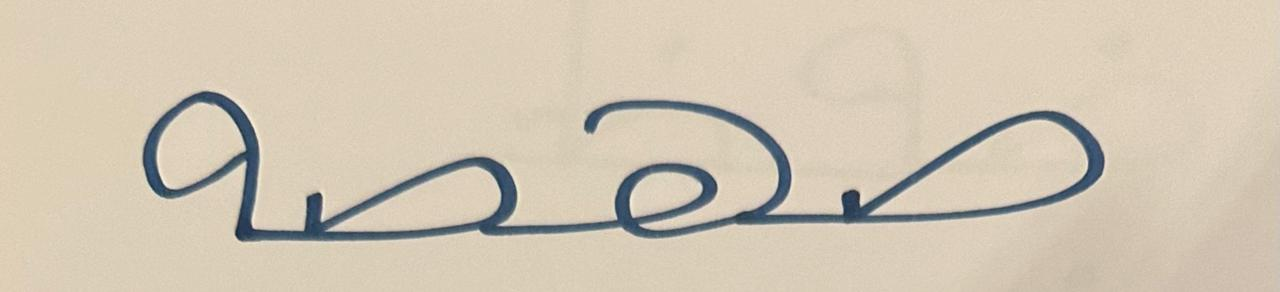jeem: (539, 1, 808, 270), (100, 13, 283, 273)
seen: (811, 13, 1138, 270), (288, 46, 535, 278)
